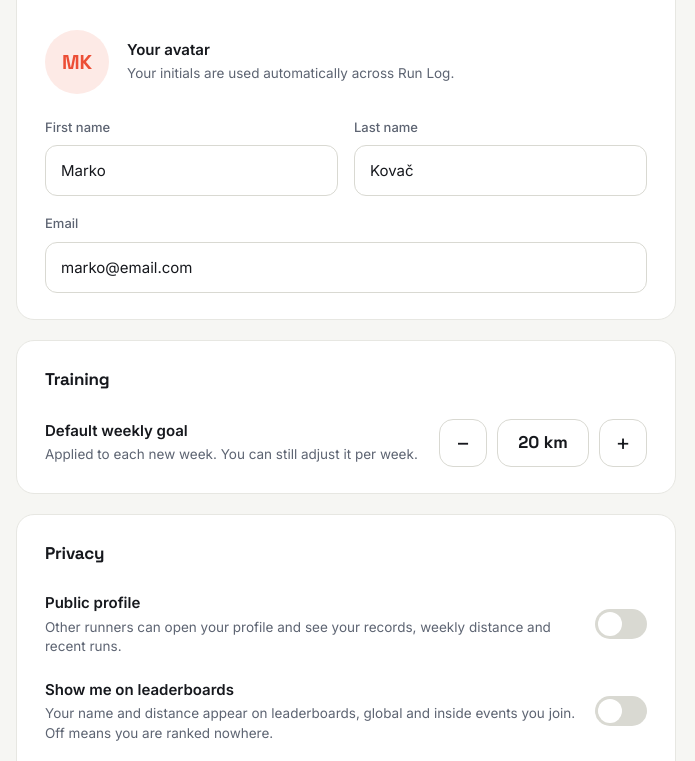
it: Settings save changes persistence (RUN-39) › keeps the last saved values when a later invalid draft is rejected (AC3)
Click the button named "Increase default weekly goal".
click(623, 442)  # box [599,418,647,466]
(page scrolled)
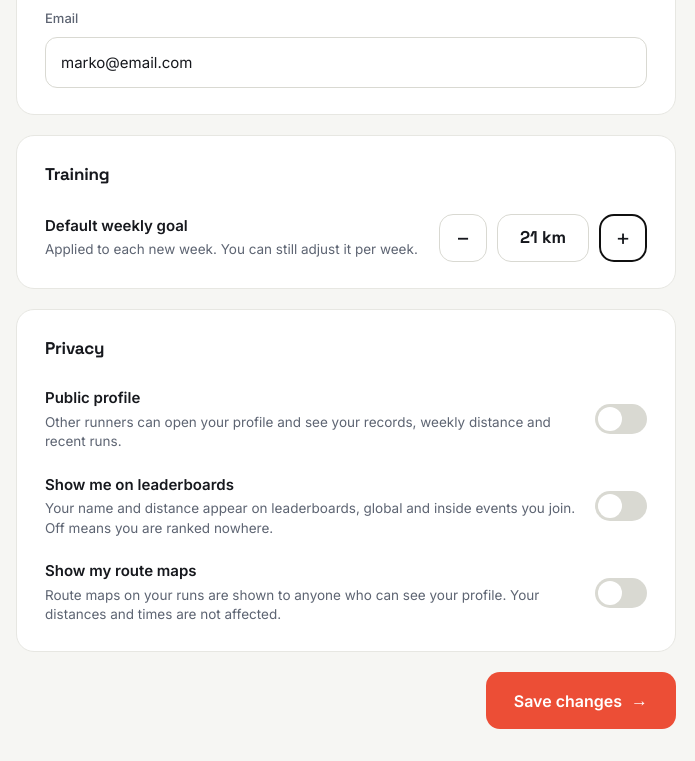
Click the button "Save changes →".
click(581, 701)  # box [486,672,676,729]
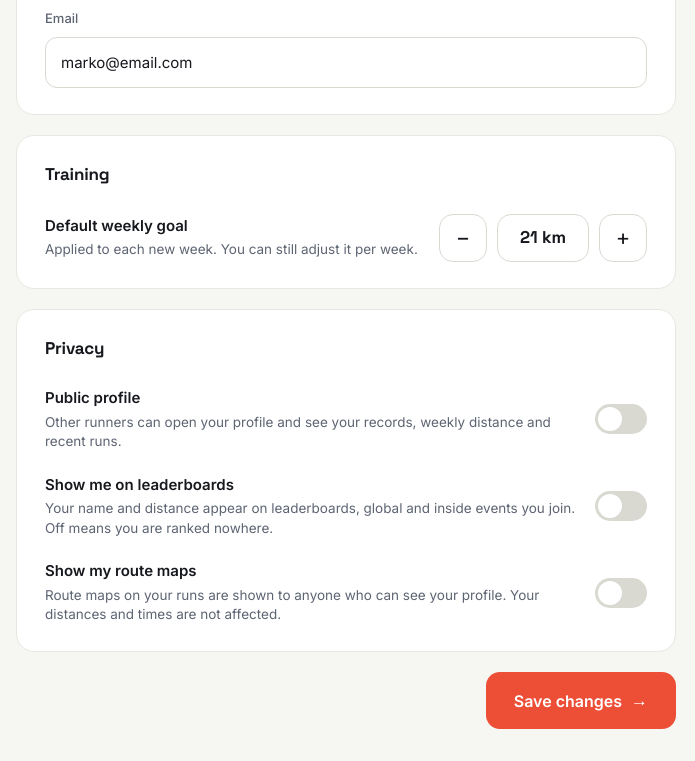
Clear the field labelled "Email" at (346, 62), box [45,37,647,88]
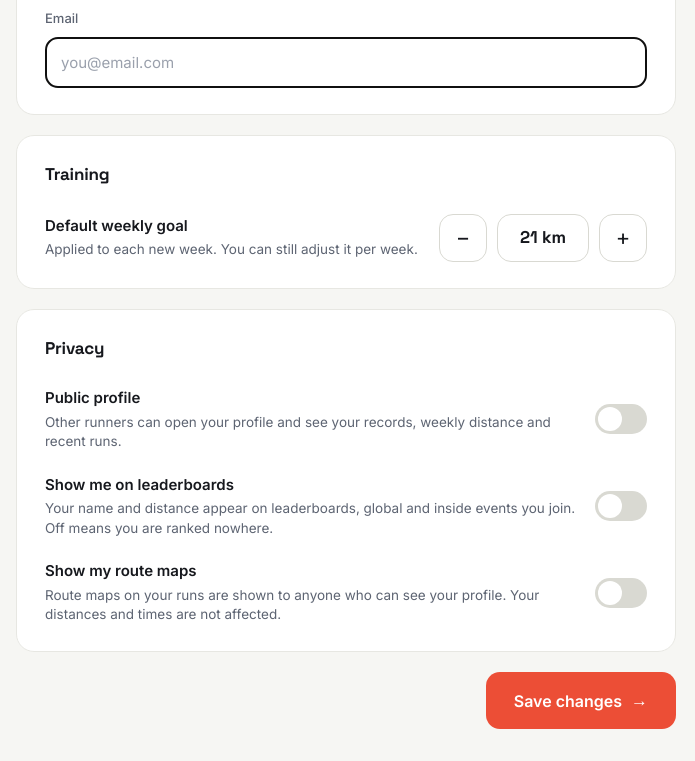
Click the button named "Increase default weekly goal".
click(623, 238)  # box [599,214,647,262]
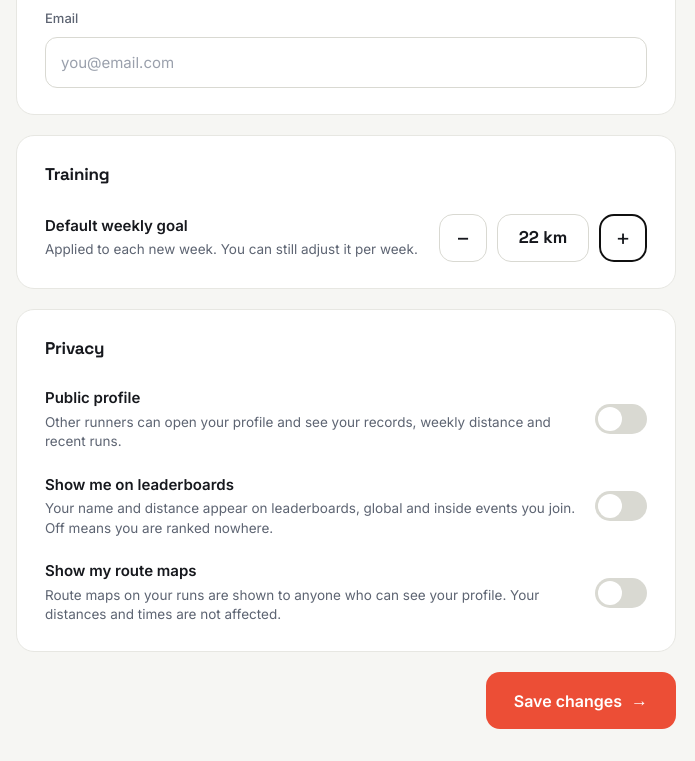
Click the button "Save changes →".
click(581, 701)  # box [486,672,676,729]
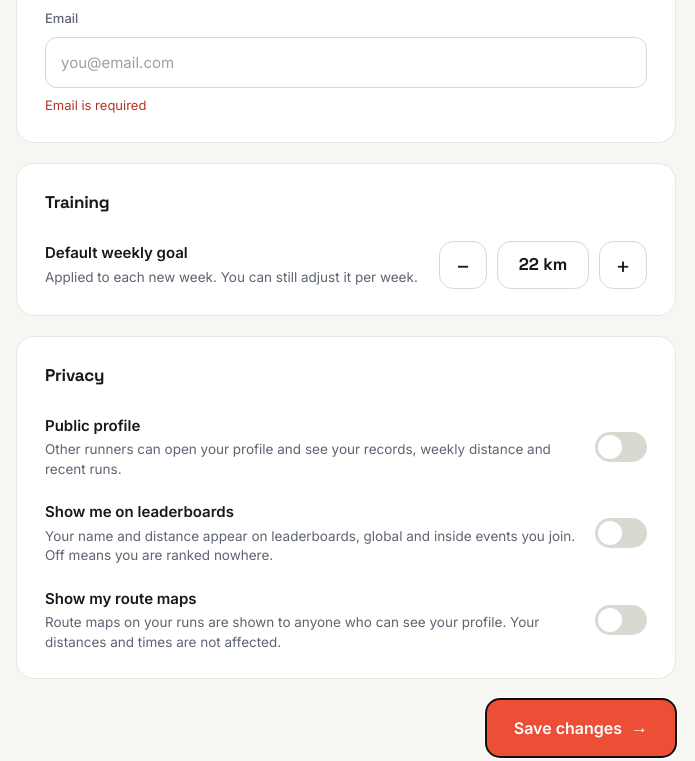
Check: the message reads "Email is required", box [45,97,146,113]
